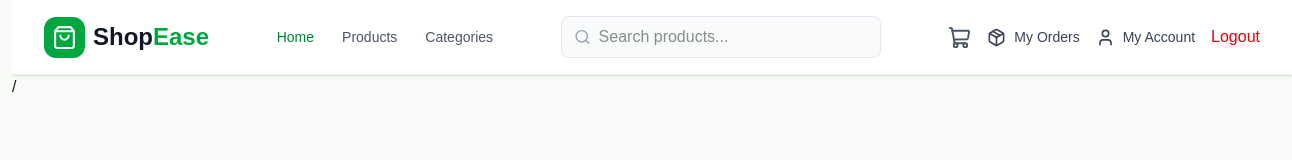
Navbar › logs out the user and redirects to login
The width and height of the screenshot is (1292, 160).
What coordinates should you click on to do the following:
click the button "Logout"
I would click on:
 (1236, 37)
Its box is x1=1211 y1=25 x2=1260 y2=49.
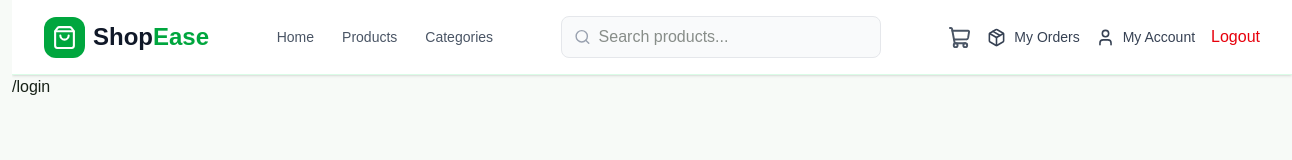
Now the text with test id "current-location" reads "/login", box x1=12 y1=78 x2=50 y2=95
